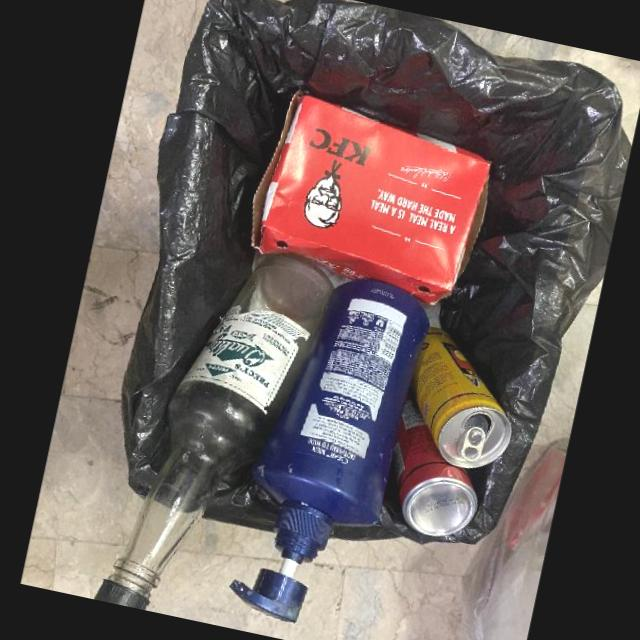carton: (251, 87, 492, 304)
chai_nhua: (230, 275, 430, 623)
chai_thuy_tinh: (94, 250, 333, 610)
nhom: (408, 326, 511, 468), (393, 399, 478, 536)
